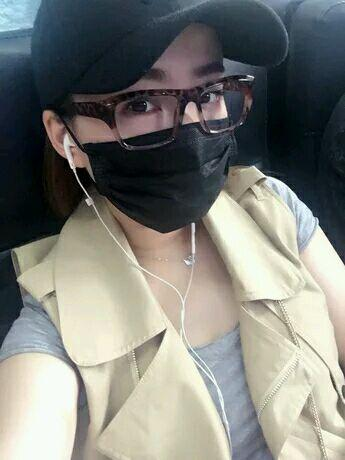OK: (73, 55, 246, 228)
